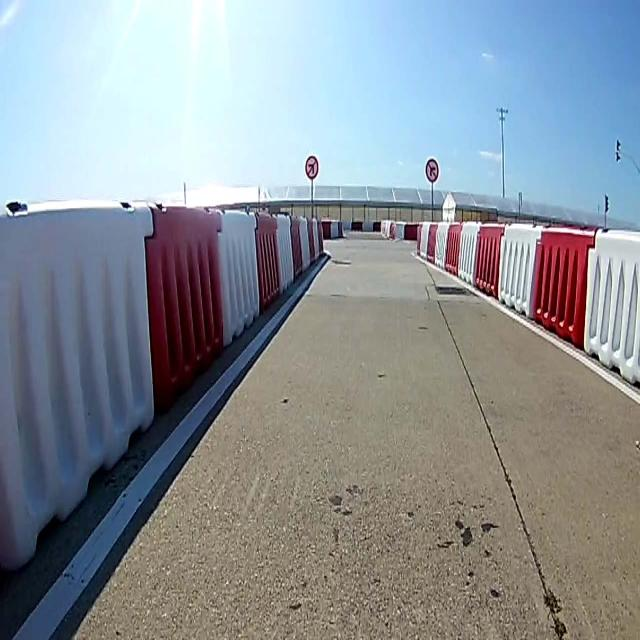sagadonulmez: (425, 158, 439, 182)
soladonulmez: (305, 155, 319, 182)
